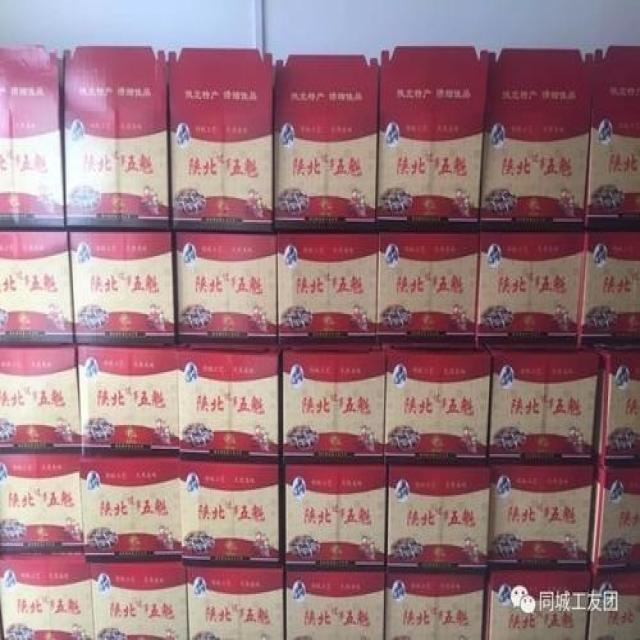box: (479, 48, 593, 234), (376, 44, 488, 232), (65, 44, 173, 229), (166, 48, 274, 232), (274, 53, 379, 232), (481, 341, 602, 466), (384, 341, 493, 466), (280, 345, 385, 466), (177, 345, 283, 464), (69, 232, 179, 345), (0, 44, 65, 227), (486, 464, 595, 570), (378, 232, 480, 343), (77, 345, 179, 456), (278, 232, 378, 345), (477, 234, 582, 341), (385, 468, 492, 573), (177, 232, 276, 345), (284, 464, 387, 572), (178, 461, 280, 568), (584, 44, 640, 234), (79, 457, 180, 561), (0, 345, 82, 454), (0, 230, 76, 345), (0, 454, 83, 555), (0, 553, 95, 640), (90, 560, 188, 640), (484, 568, 590, 638), (186, 567, 284, 640), (586, 341, 640, 468), (284, 572, 384, 640), (387, 573, 485, 640), (581, 232, 640, 341), (588, 466, 640, 573), (588, 573, 640, 640)
